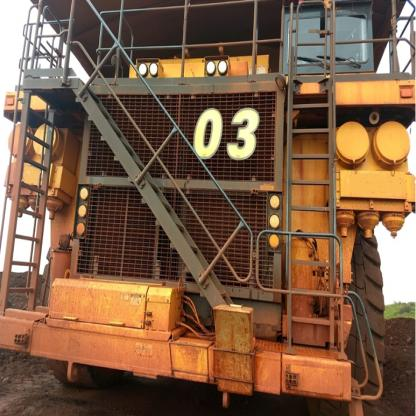dump_truck: (3, 1, 412, 414)
